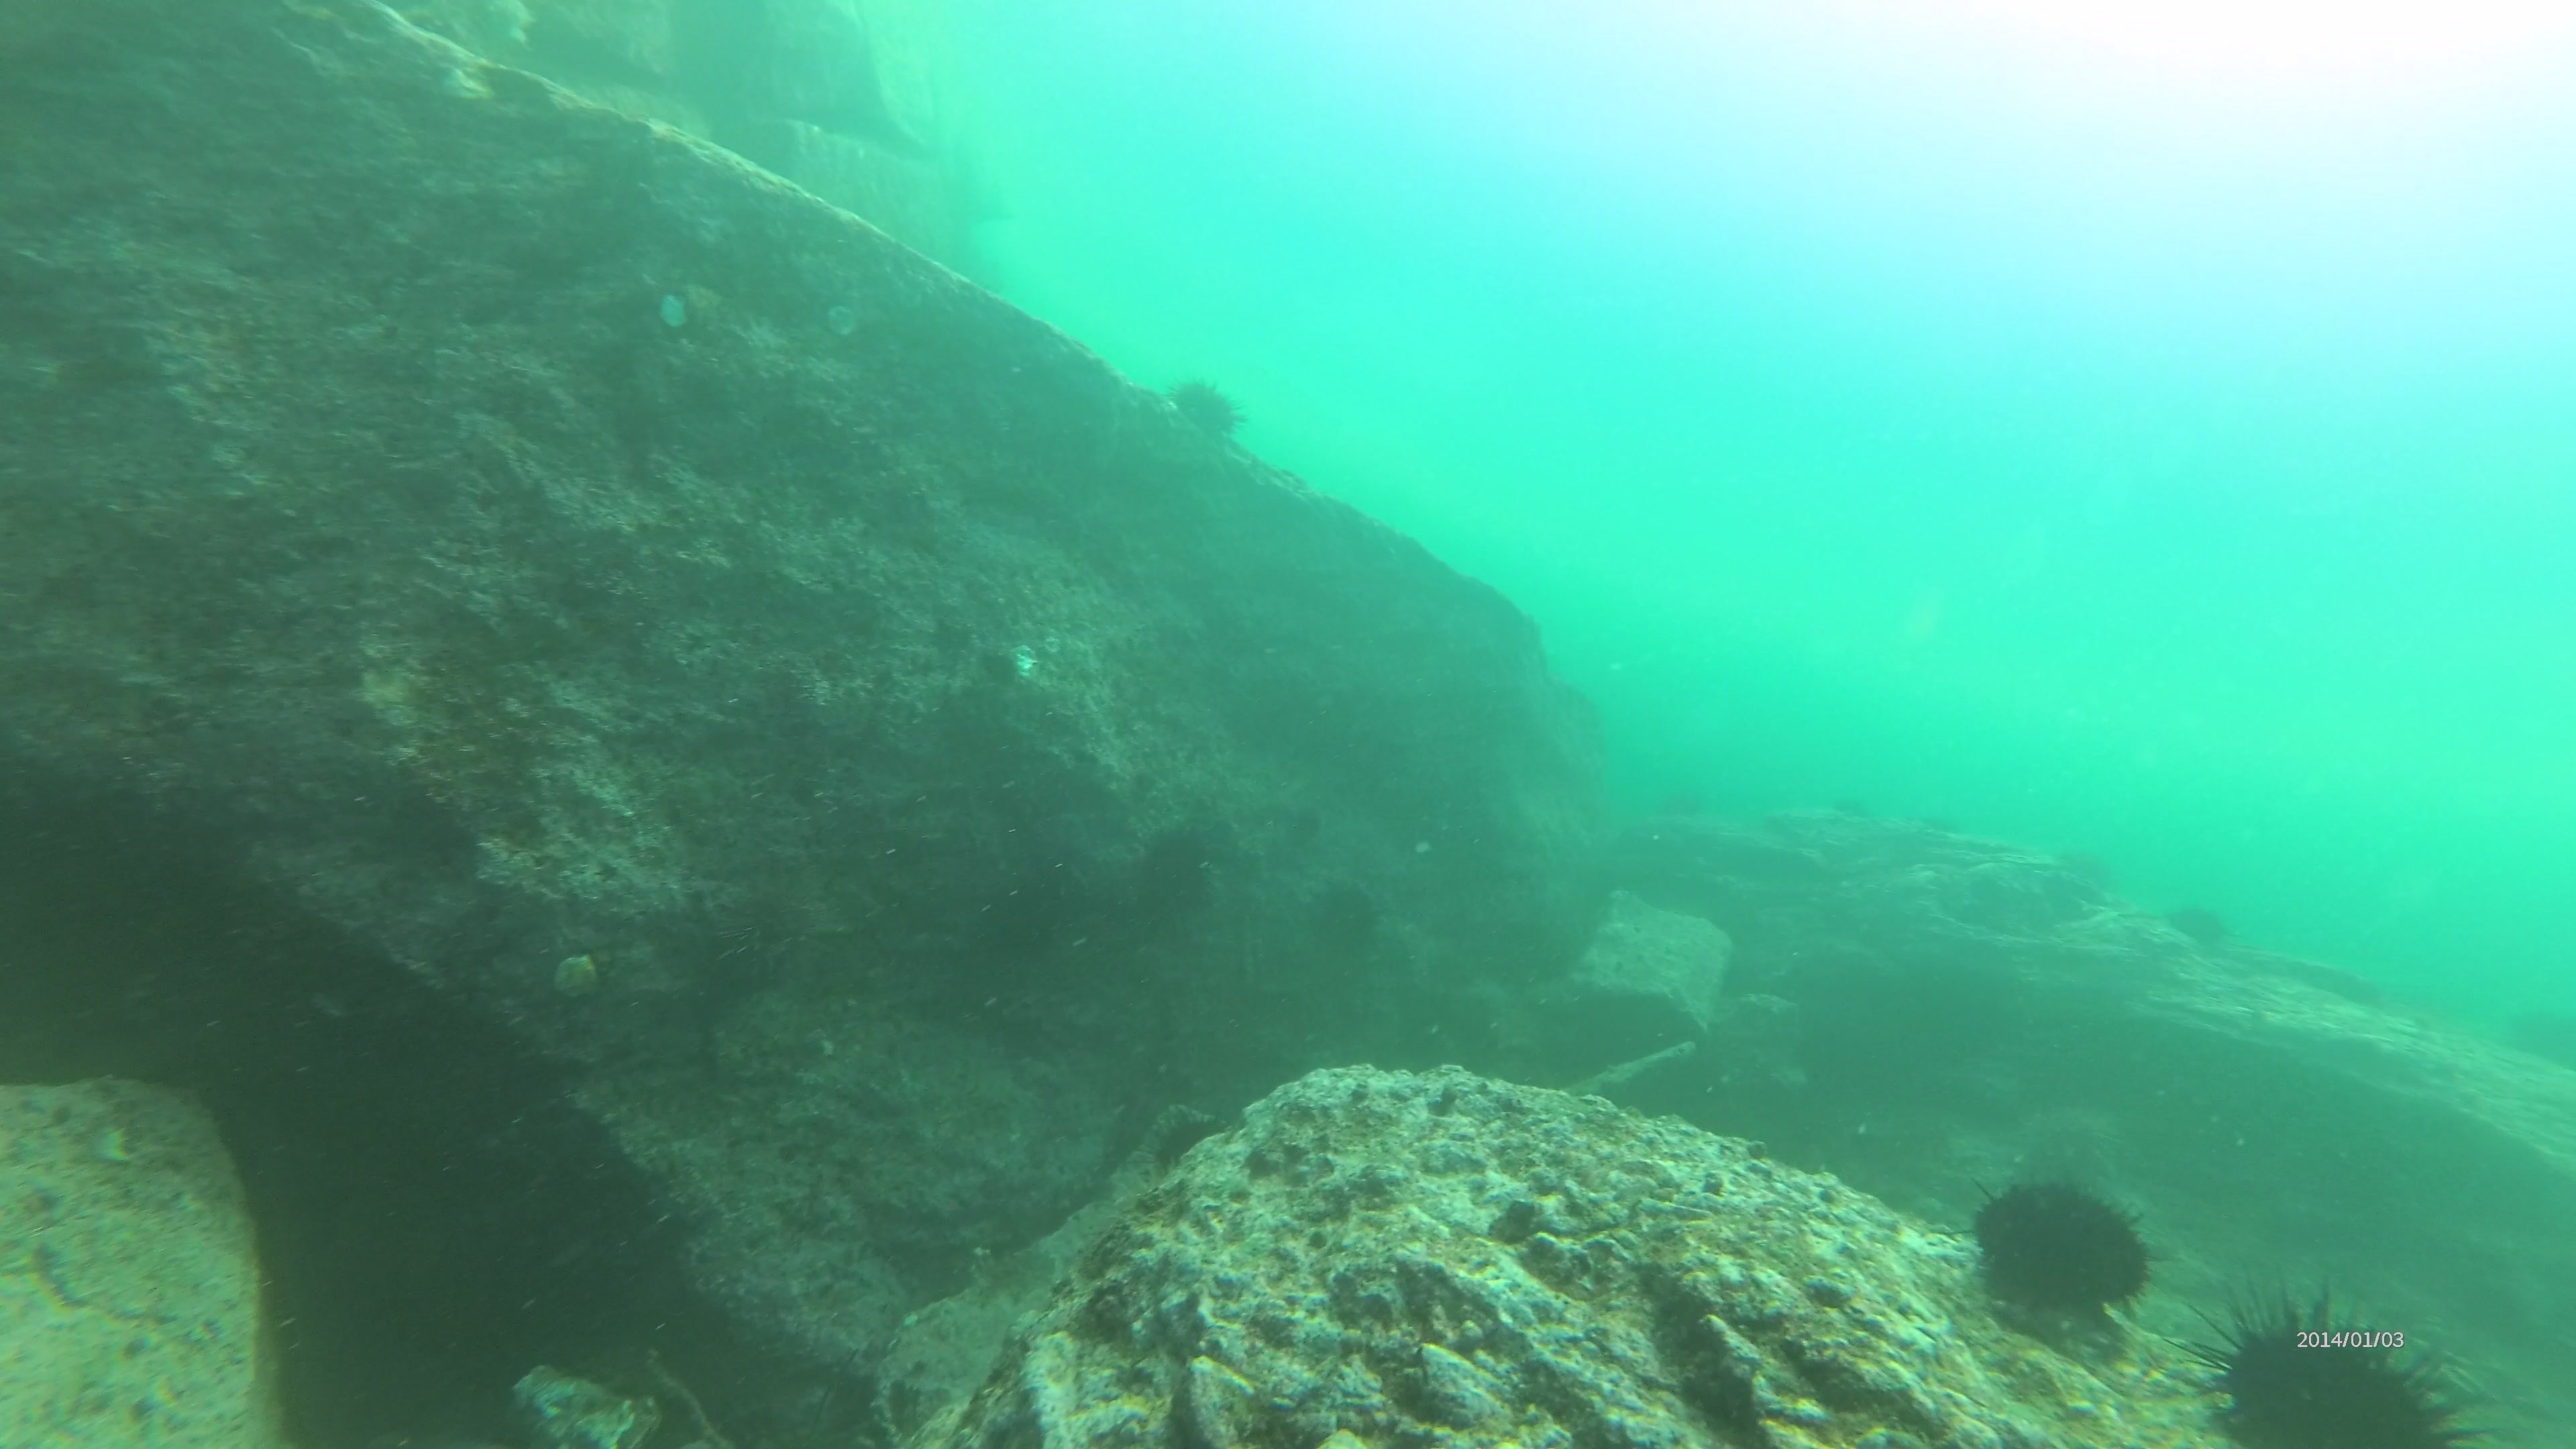echinus: (2178, 1276, 2473, 1444), (1962, 1164, 2162, 1330), (697, 872, 851, 1000), (1123, 816, 1228, 929), (1297, 872, 1391, 970), (1159, 370, 1251, 462), (2026, 1090, 2134, 1164), (1148, 1108, 1235, 1173), (2166, 899, 2235, 943), (2058, 844, 2112, 886), (1916, 812, 1962, 844), (1663, 793, 1711, 821), (1826, 793, 1870, 821)
